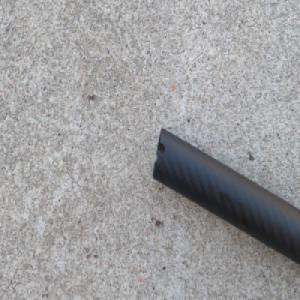LuggagePart: (151, 125, 300, 268)
